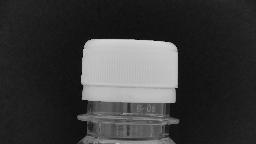Loose Cap: (71, 81, 183, 127)
